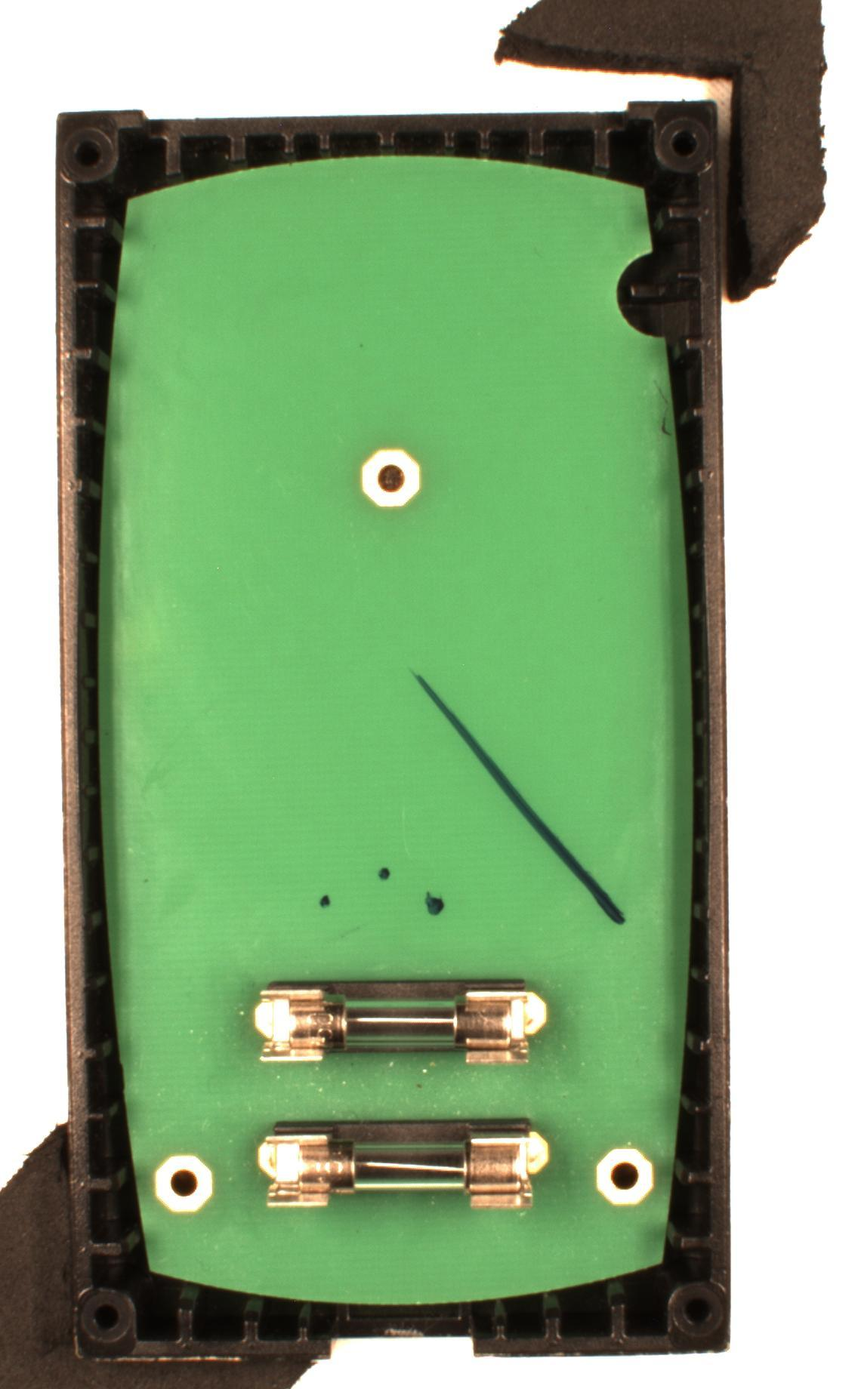Linijsko Ostecene: (402, 663, 630, 930)
Tockasto Ostecenje: (420, 887, 450, 920), (375, 864, 392, 883), (316, 892, 332, 909)
